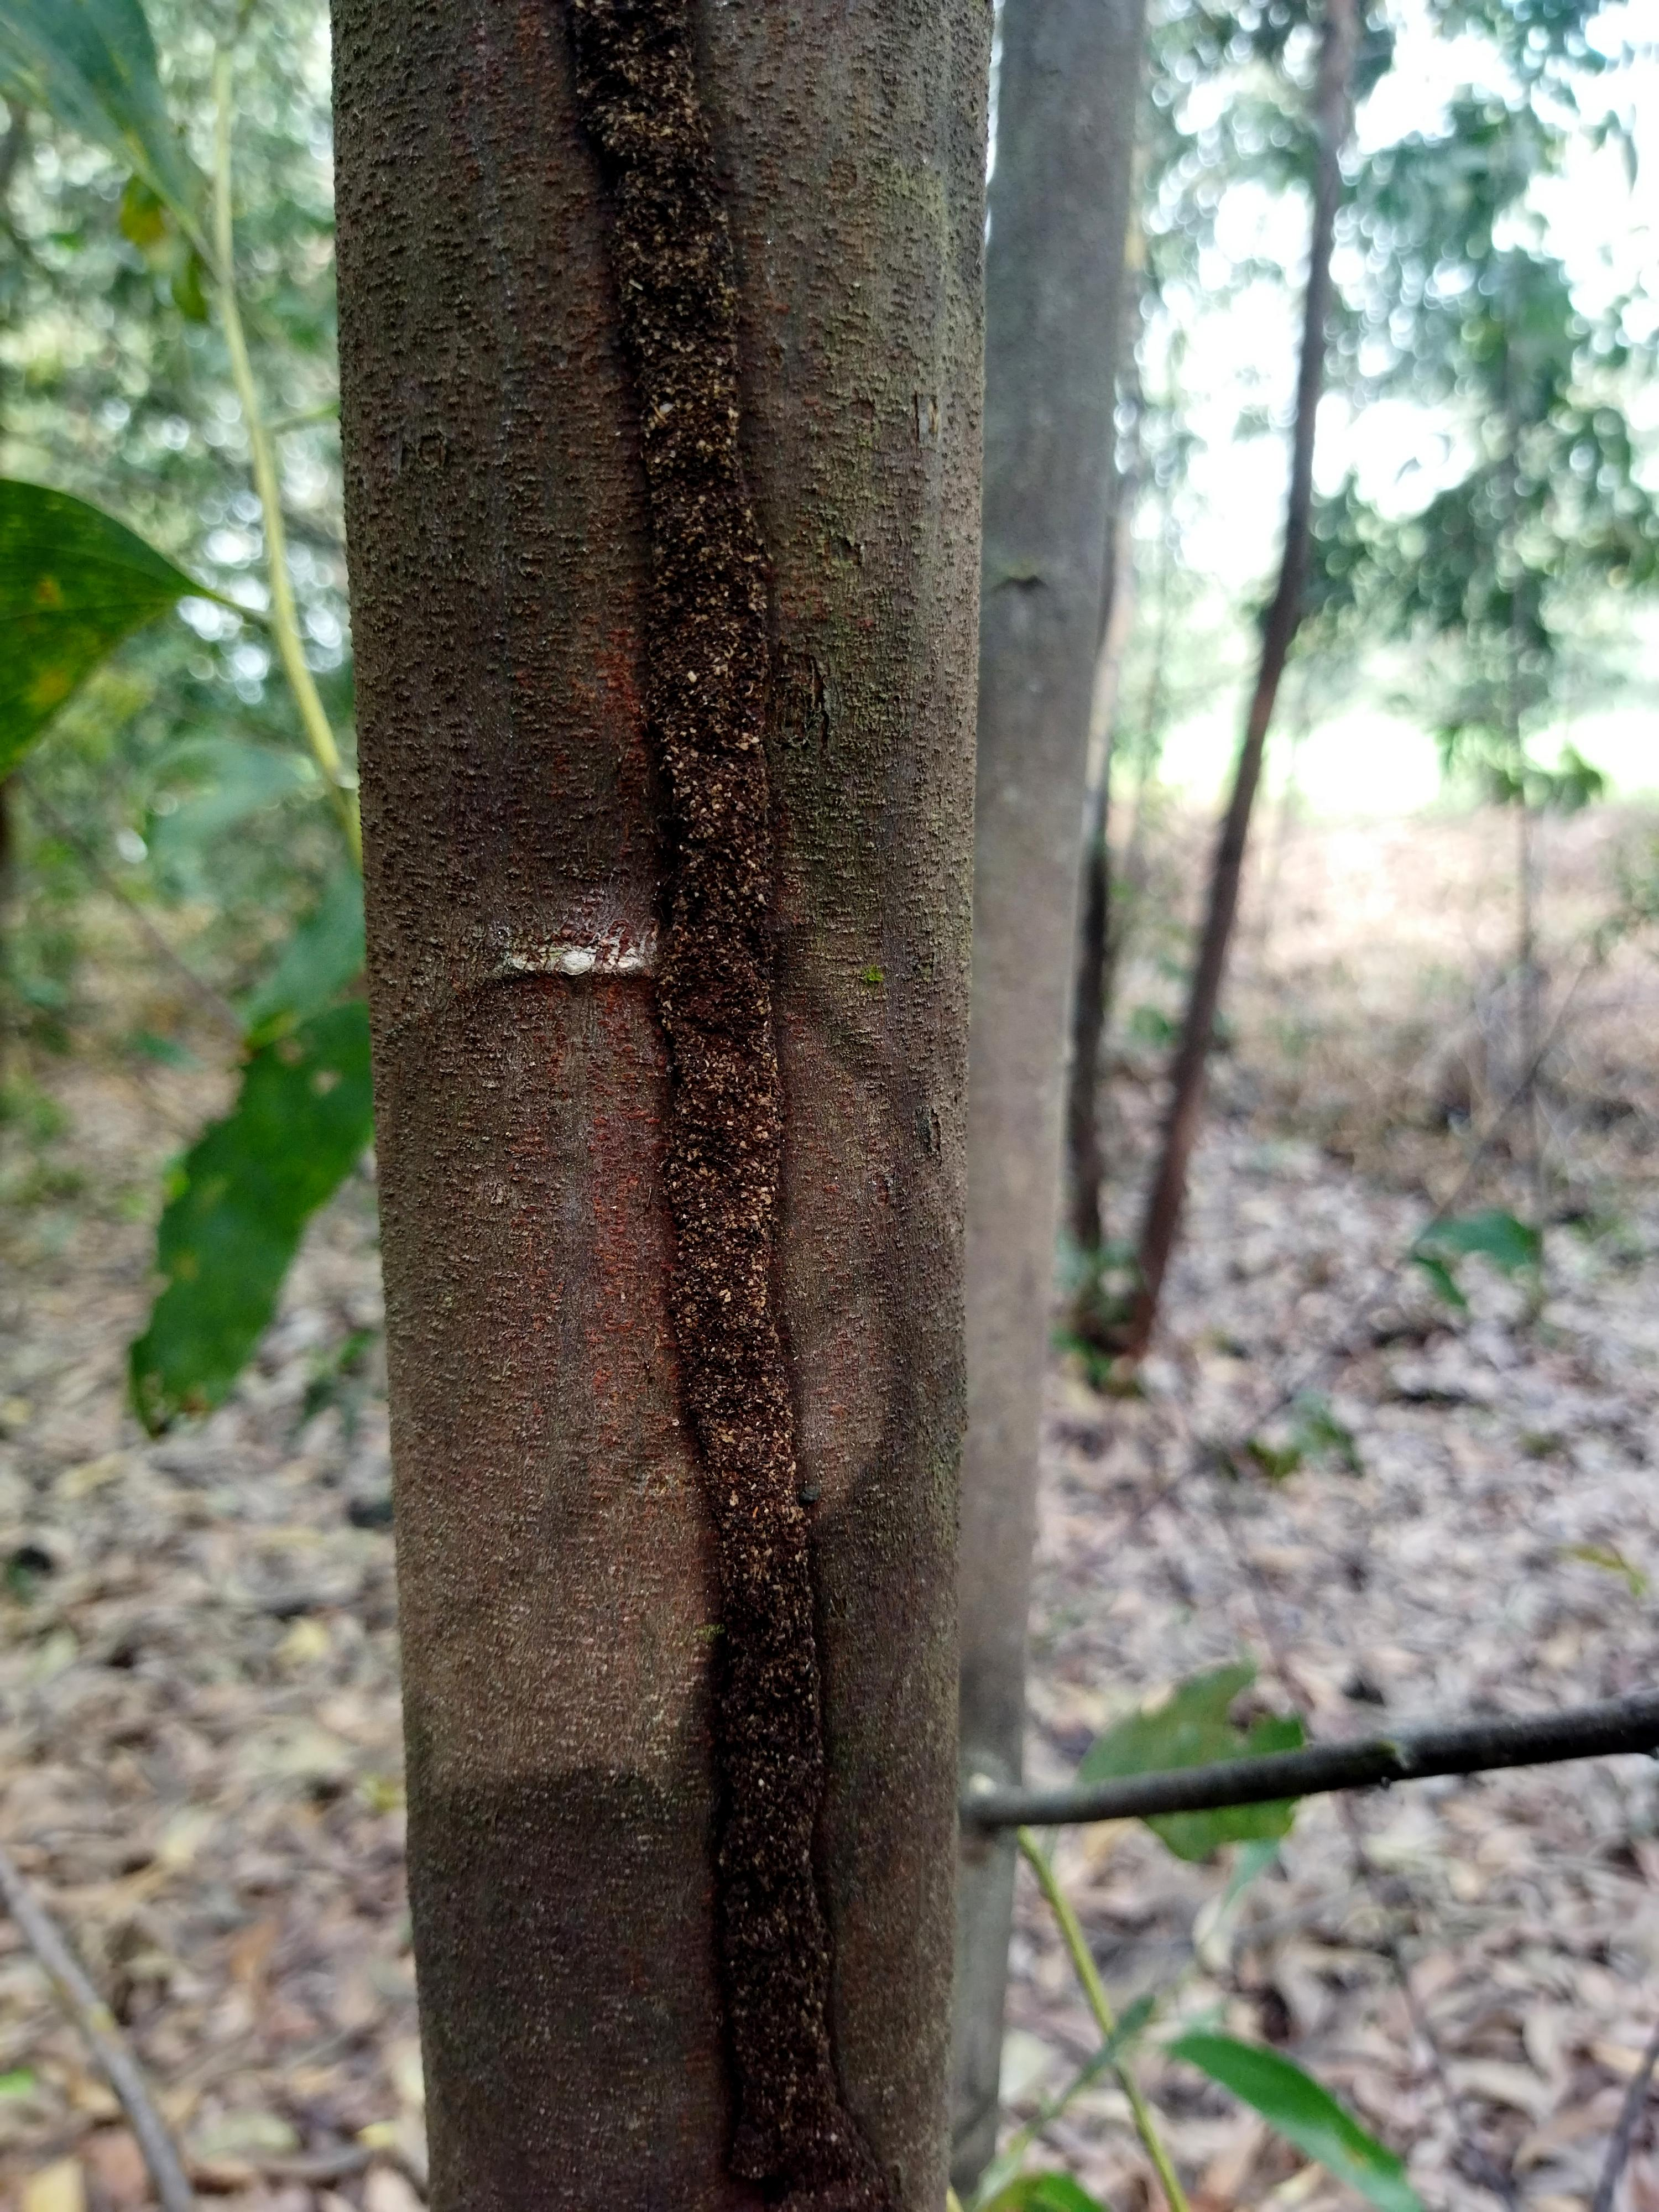Termite - Nest: (544, 0, 908, 2212)
